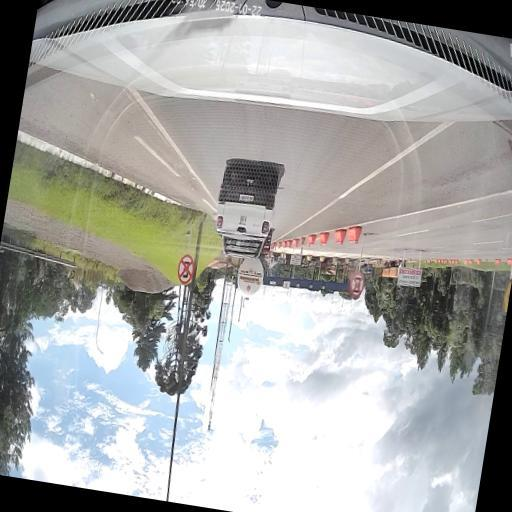R-6c: (174, 252, 196, 284), (347, 269, 365, 297)
